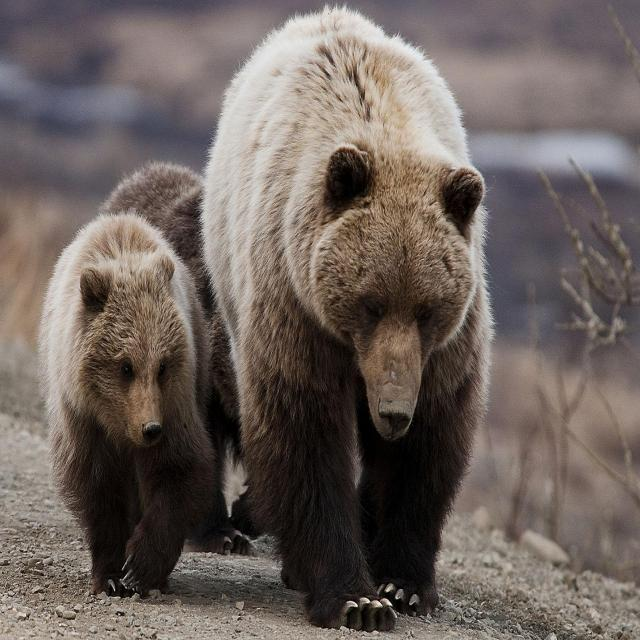Bear: (199, 8, 493, 633), (38, 213, 223, 599), (101, 162, 244, 489)
